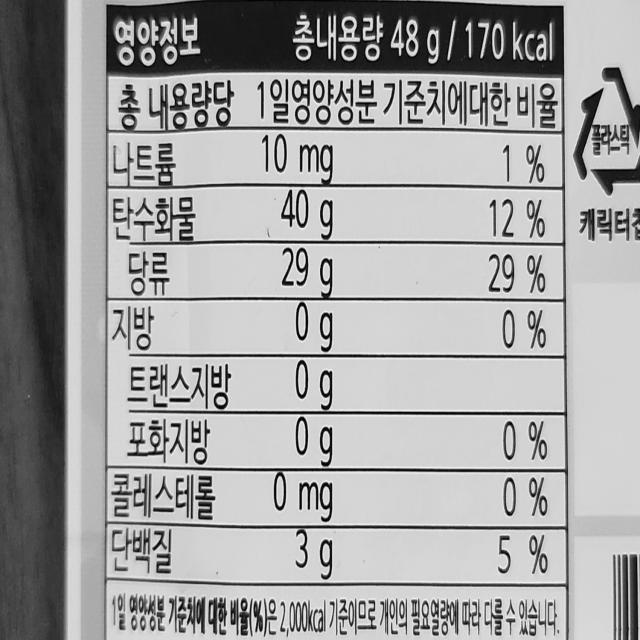Nutrition Label: (110, 4, 575, 640)
